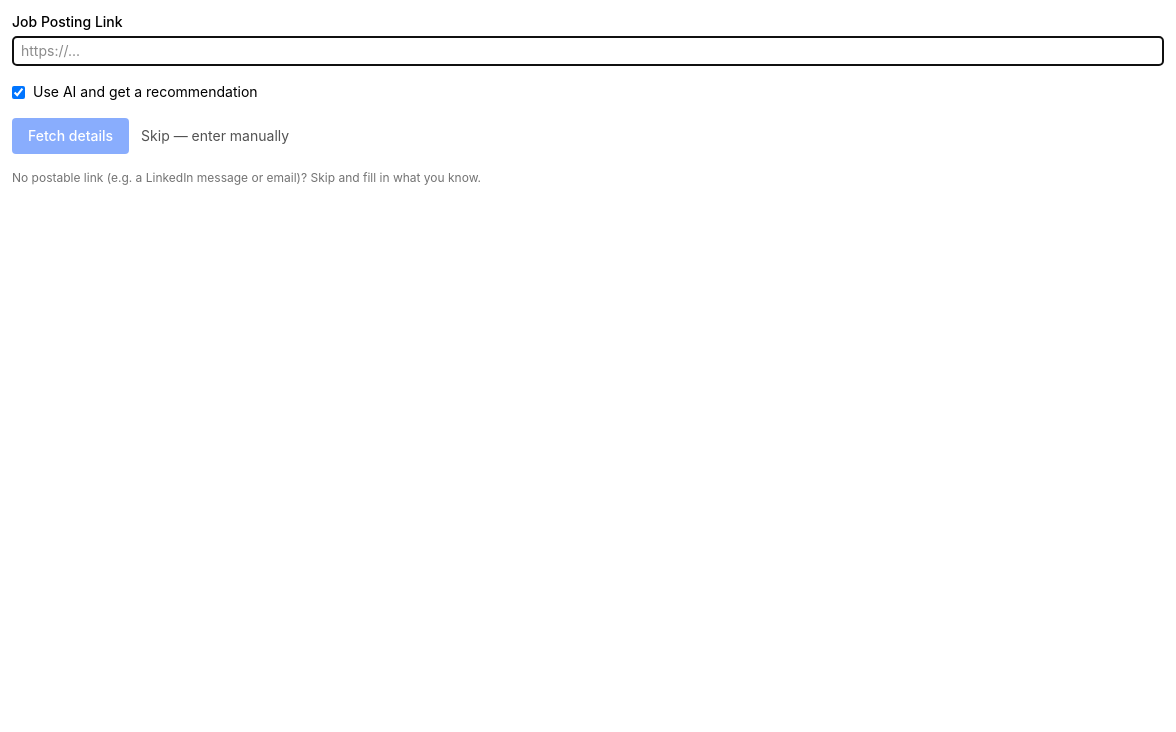
AddJobForm › a failed fetch still reveals a blank, editable form instead of getting stuck
In the field labelled "Job Posting Link": (588, 51) [12,36,1164,66], type "https://acme.com/jobs/1"
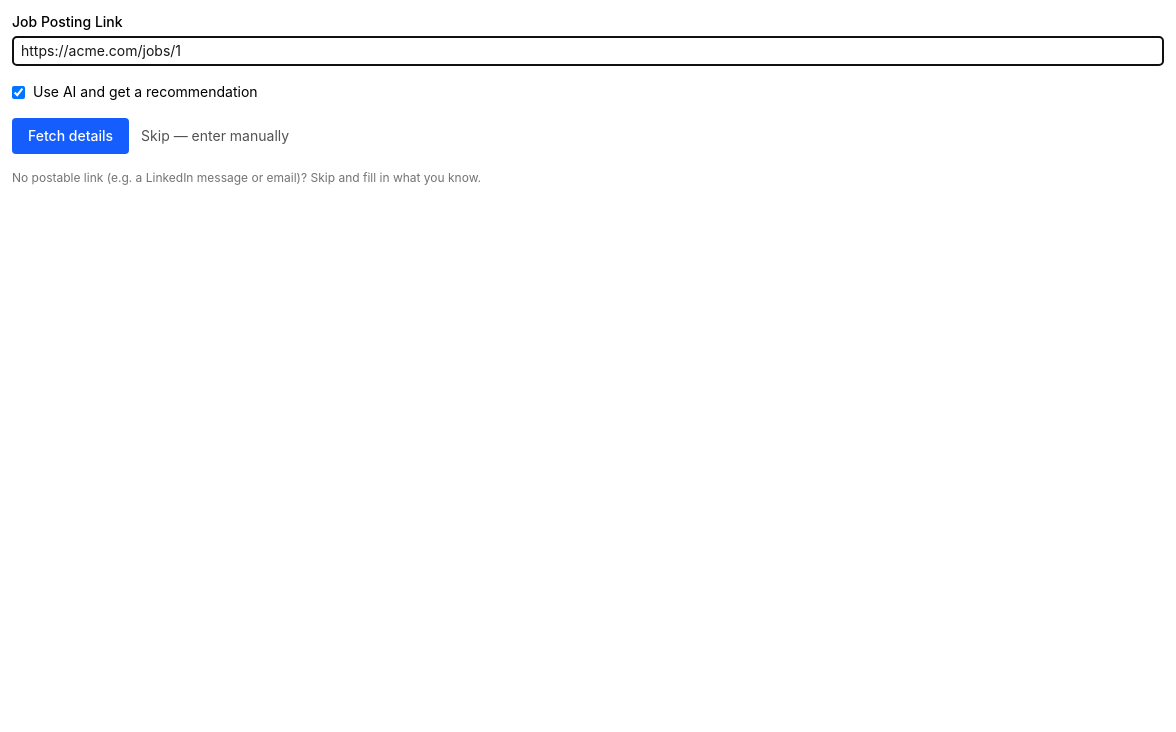
Click the button "Fetch details": (71, 136) [12,118,129,154]
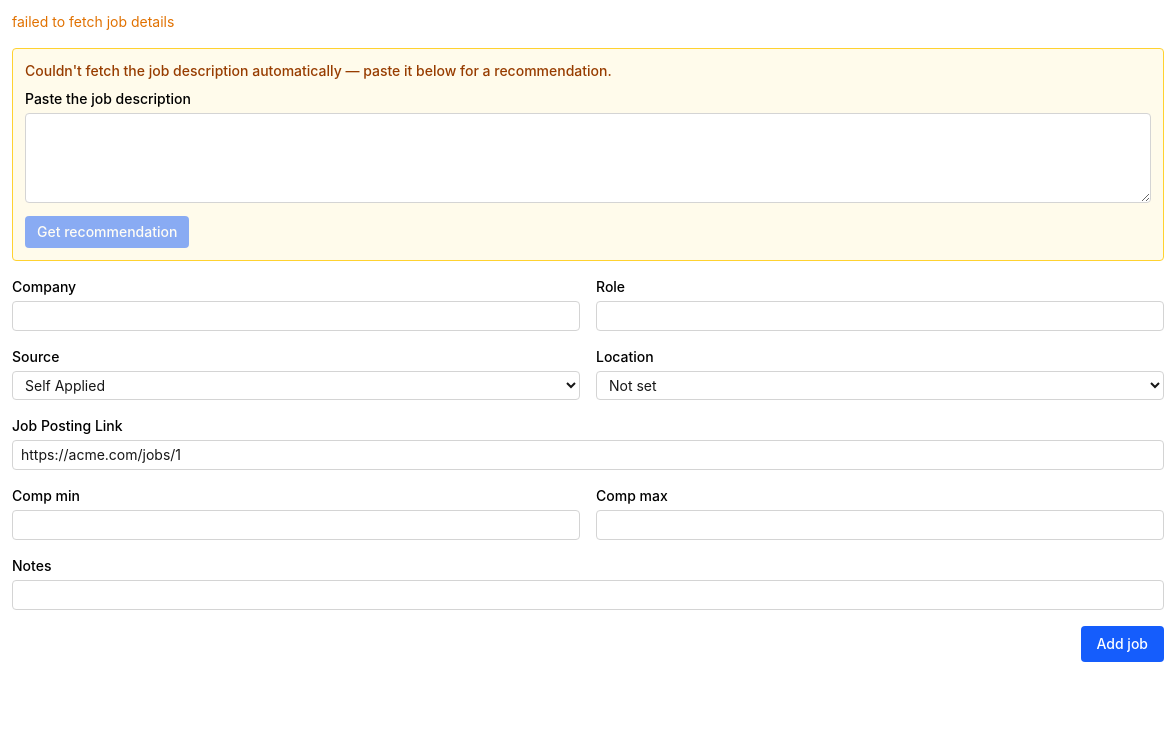
Expected: the field labelled "Company" is empty, [12,301,580,331]
Result: the message "failed to fetch job details" is shown at [12,13,174,30]
